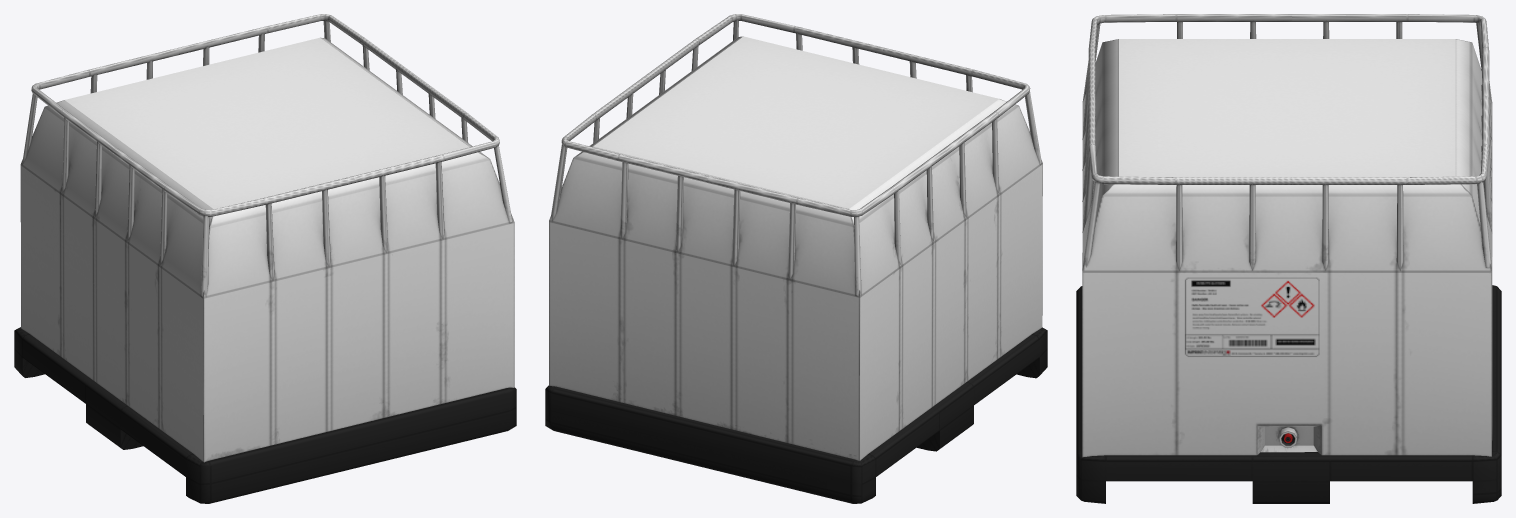
The model's file is liquidContainerLarge_L.fbx.
3 views of the same model, side by side, from view 1: azimuth 30°, elevation 25°; view 2: azimuth 150°, elevation 25°; view 3: azimuth 270°, elevation 25° (orthographic). The views are drawn at different scales.
Visible parts, largest first — view 1: liquidContainerLarge_L; view 2: liquidContainerLarge_L; view 3: liquidContainerLarge_L.
Part boxes in pixels (bbox=[...]): liquidContainerLarge_L: bbox=[14, 14, 516, 503]; liquidContainerLarge_L: bbox=[545, 14, 1047, 503]; liquidContainerLarge_L: bbox=[1076, 14, 1501, 503].
Size of the model in its own units: 0.7751 by 0.6621 by 0.7899.
1 material, 1 textured.
